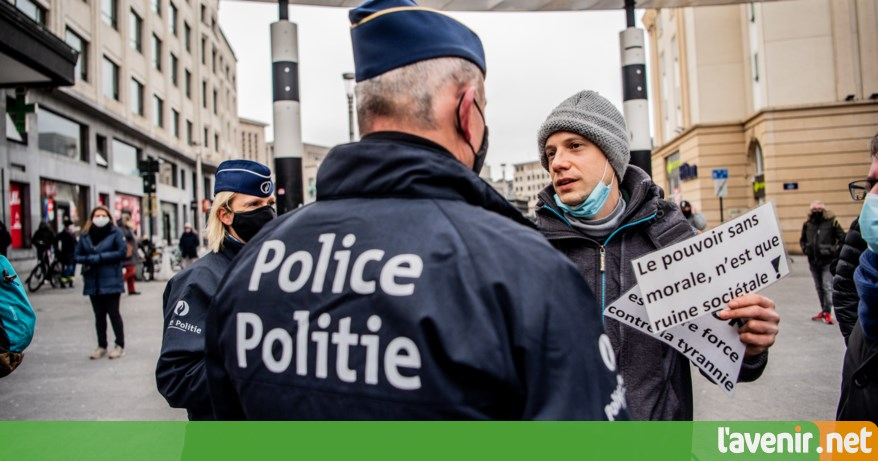with_incorrect_mask: (547, 128, 626, 222)
with_mask: (217, 187, 277, 242), (91, 209, 109, 225)
